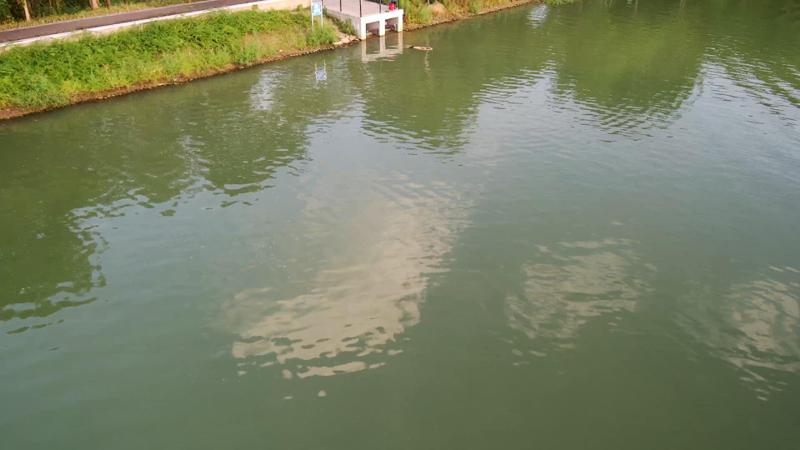swimmers: (403, 44, 434, 52)
